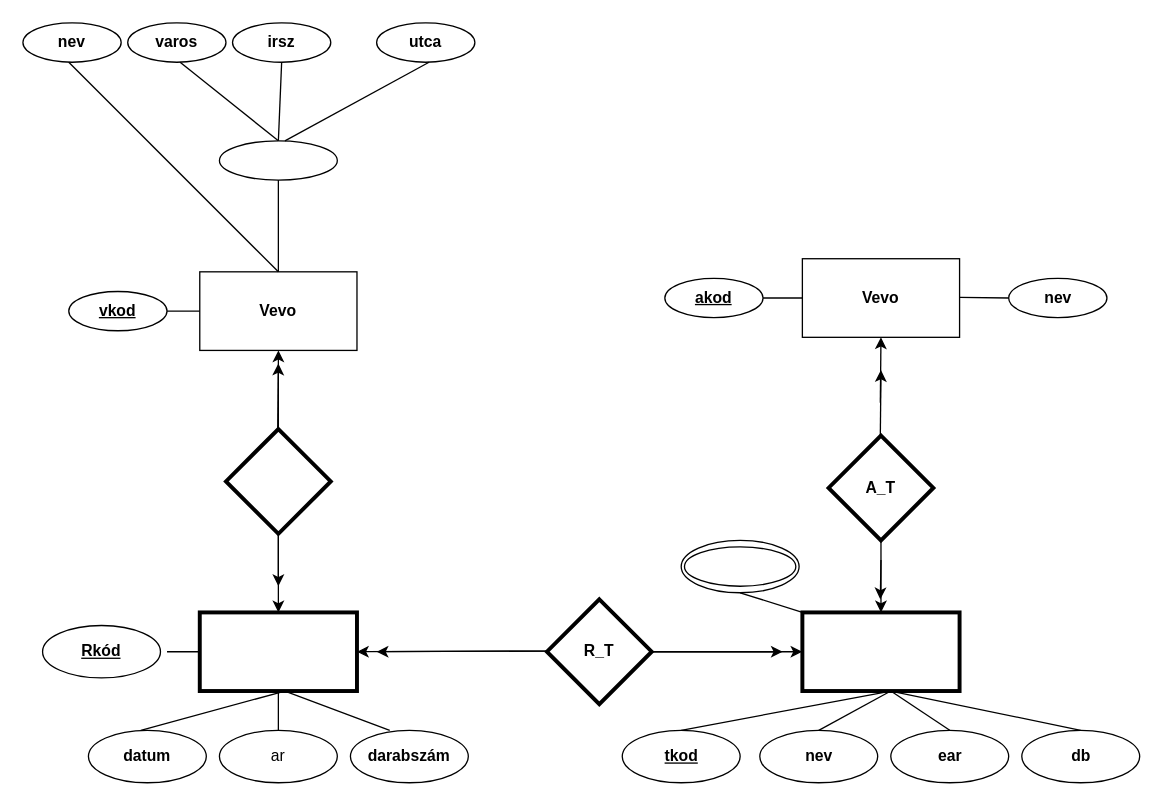
This 1163x806 diagram has some shape labels left out. Here are the shapes that lost their labels. From the top down, the box of each, then its label:
(218, 140, 337, 180): Lakcím
(223, 426, 332, 535): R_V
(683, 546, 796, 586): egyseg_db
(197, 610, 358, 692): Rendelés
(800, 610, 961, 692): Termek
